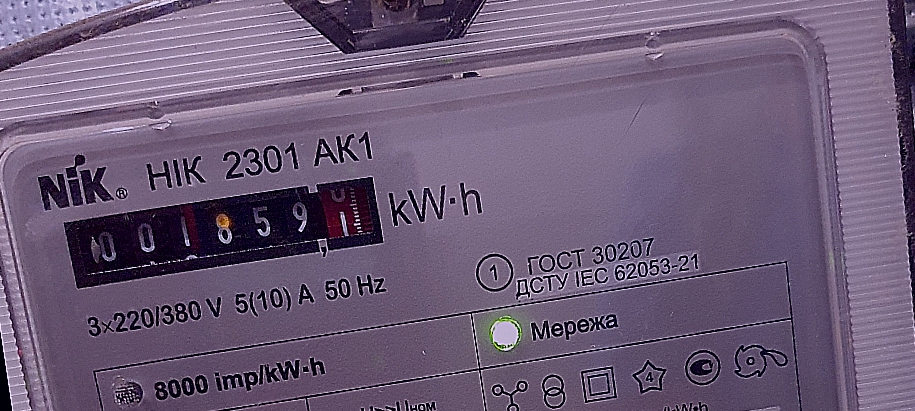0: (95, 227, 119, 265), (133, 219, 157, 255)
1: (176, 212, 193, 249), (335, 206, 352, 238)
5: (249, 201, 274, 239)
8: (211, 209, 236, 246)
9: (288, 198, 312, 234)
screen: (51, 162, 395, 300)
